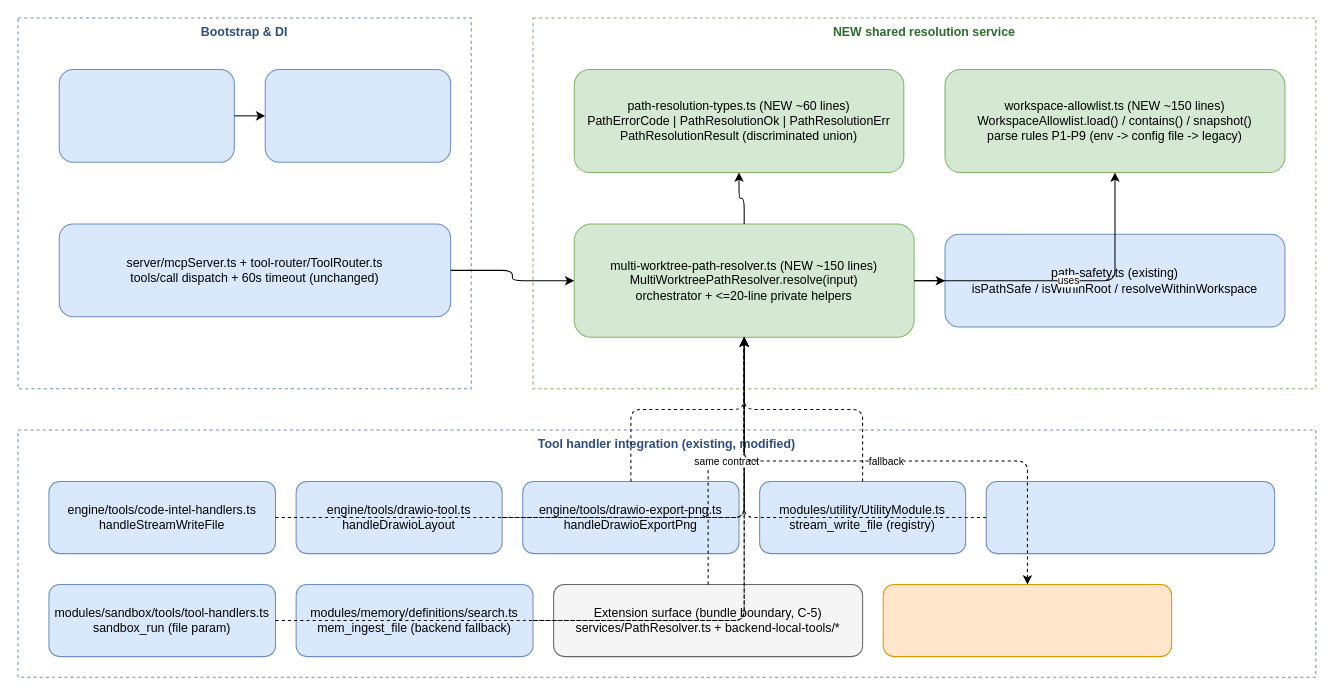
This 1334x695 diagram has some shape labels left out. The shapes that lost their labels are listed below. From the top down, each one's centre as x and y in pixels, then its label:
the point at 146,115: backend/src/index.ts load allowlist + log (BR-19)
the point at 357,115: backend/src/di/Container.ts registerInstance (singletons)
the point at 1130,517: servers/atlassian/*-tools.ts jira_attach_file / confluence_add_attachment
the point at 1027,620: Legacy single-root mode empty allowlist (BR-16) - byte-identical behavior
